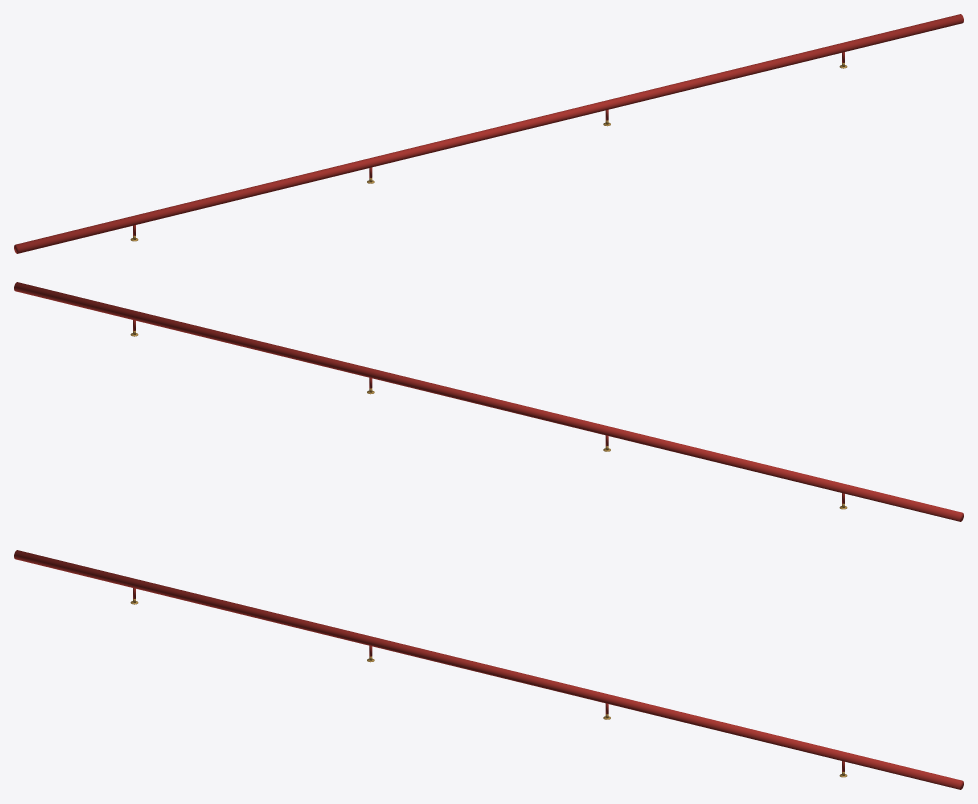
The model's file is pipe_sprinkler.glb.
3 views of the same model, one above another, from view 1: azimuth 30°, elevation 25°; view 2: azimuth 150°, elevation 25°; view 3: azimuth 330°, elevation 25° (orthographic).
Visible parts, largest first — view 1: pipe_sprinkler; view 2: pipe_sprinkler; view 3: pipe_sprinkler.
Boxes of the visible parts, left/top/right/bottom form: pipe_sprinkler: left=14, top=14, right=963, bottom=253; pipe_sprinkler: left=14, top=282, right=963, bottom=521; pipe_sprinkler: left=14, top=550, right=963, bottom=789.
Bounding box in the file's own units: 8 × 0.192 × 0.07.
